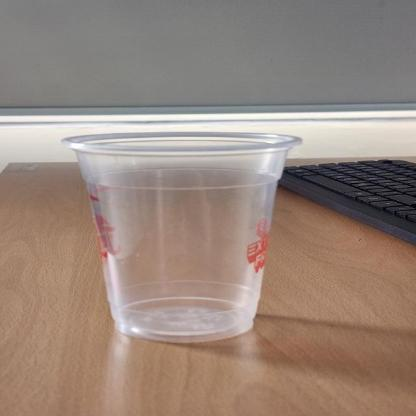Plastic Cup: (61, 130, 308, 344)
